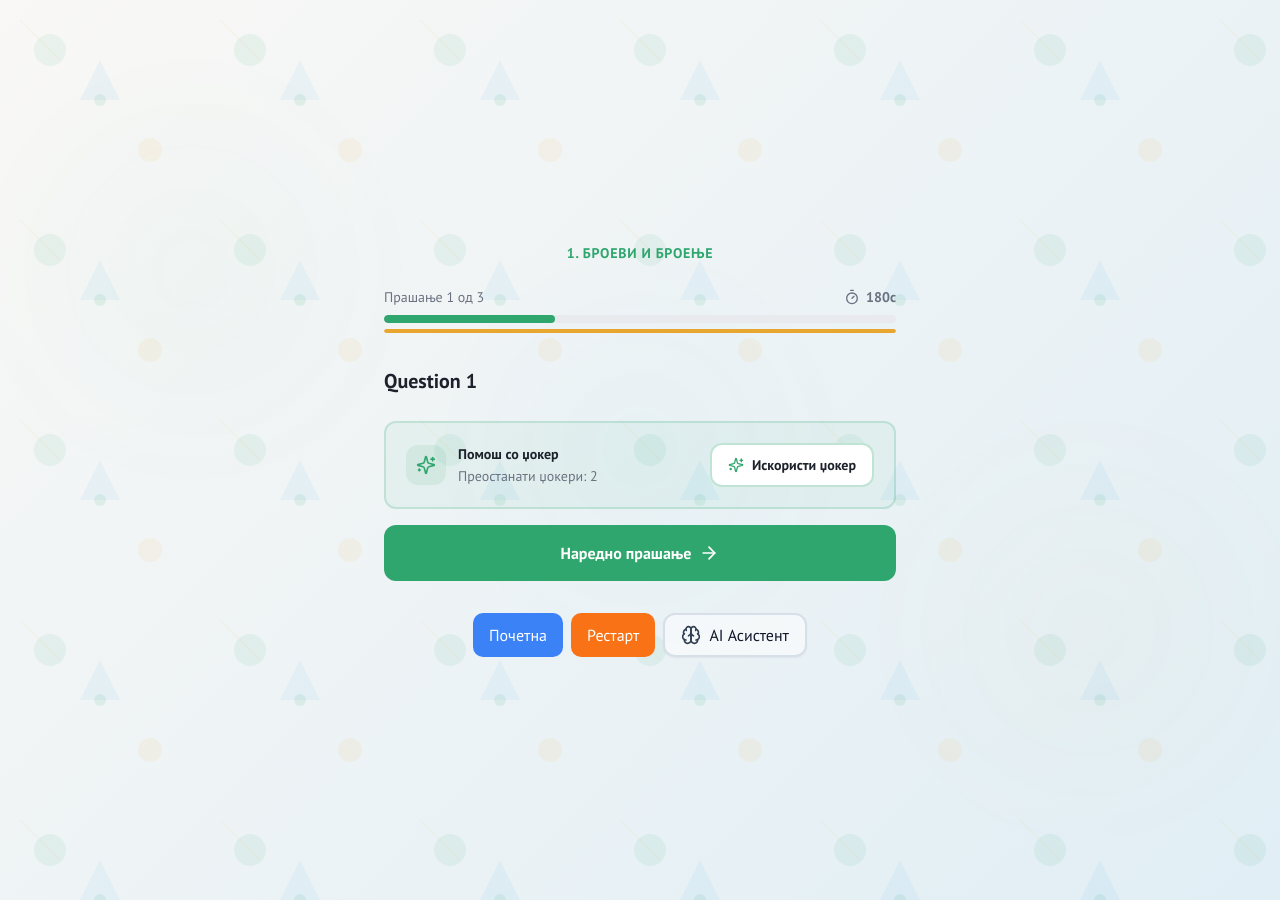
it: paper quiz jokers › resets used jokers when restarting an unfinished quiz
Click the button "Искористи џокер".
click(792, 465)  # box [710,443,874,487]
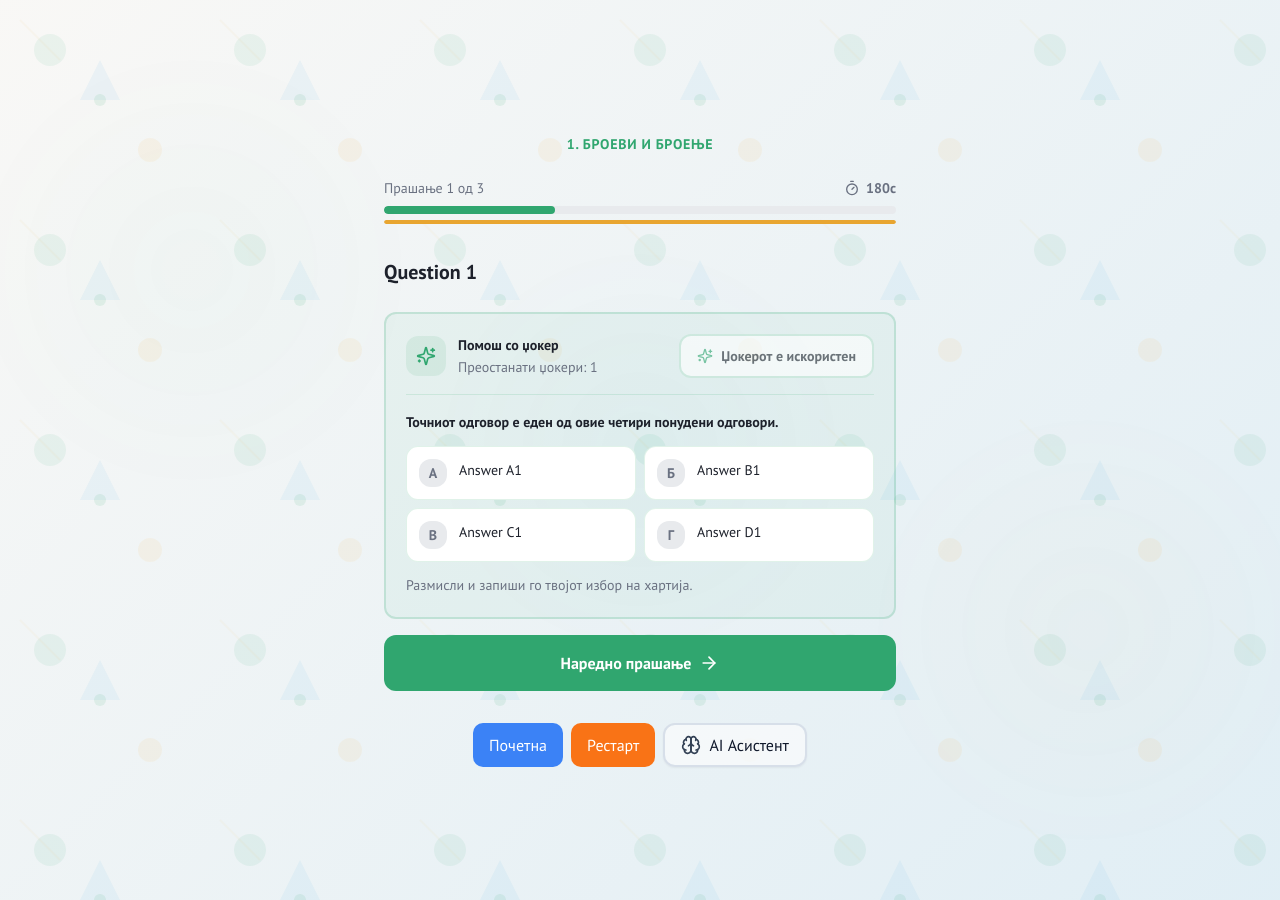
Click the button "Рестарт".
click(613, 744)  # box [571,722,655,766]
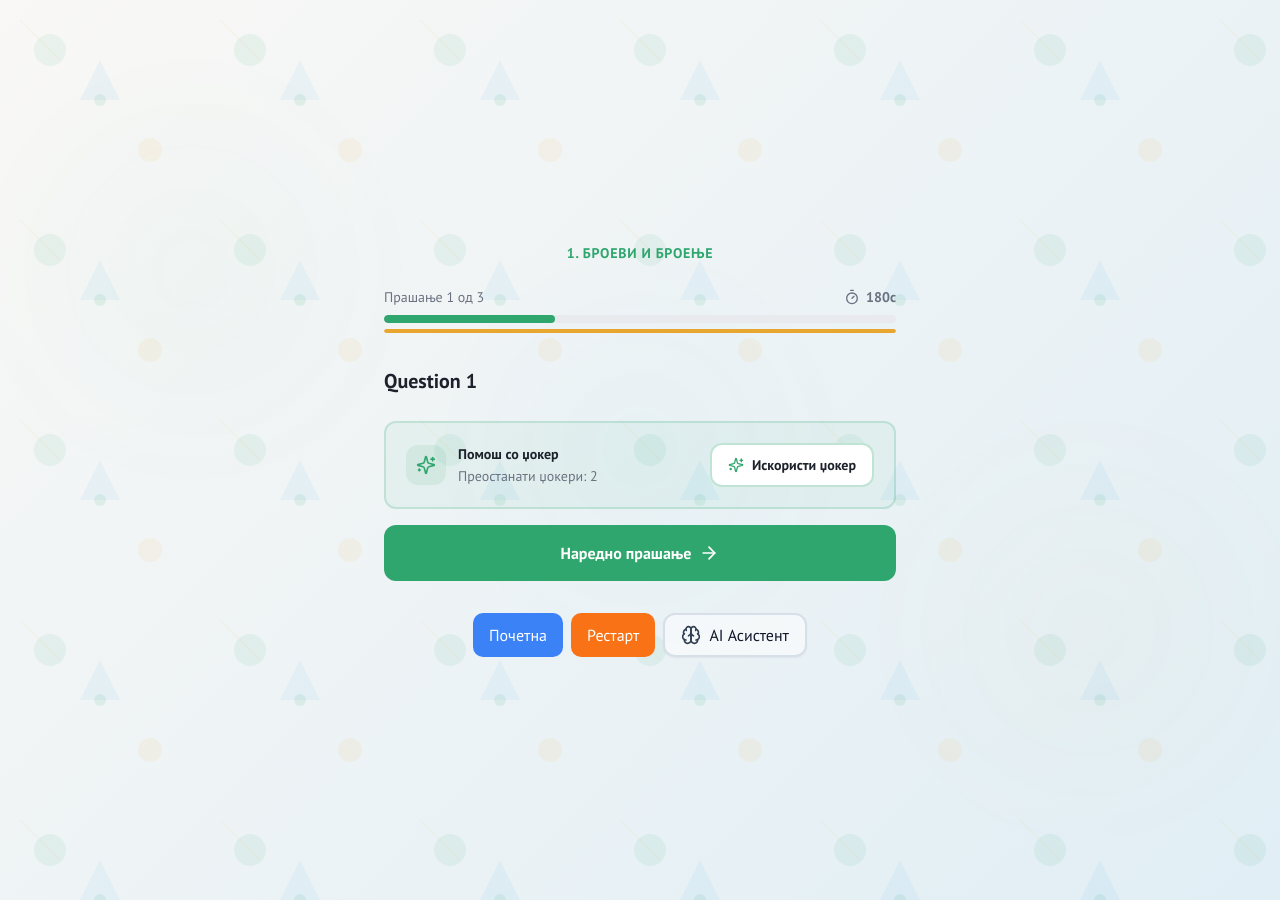
Expected: the text "Преостанати џокери: 2" is shown, [458,466,598,486]
Click the button "Искористи џокер".
click(792, 465)  # box [710,443,874,487]
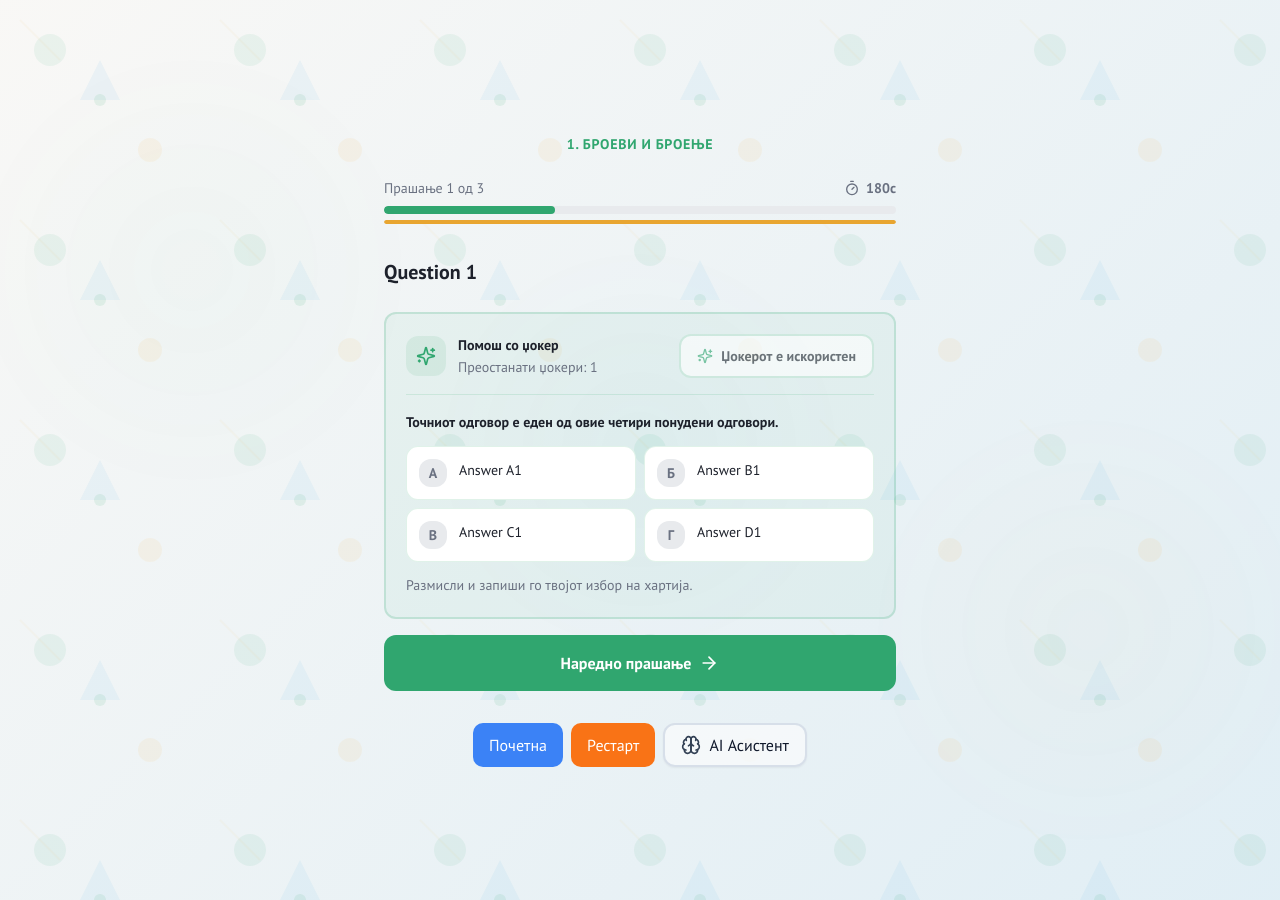
Expected: the text "Преостанати џокери: 1" is shown, [458,357,598,377]
